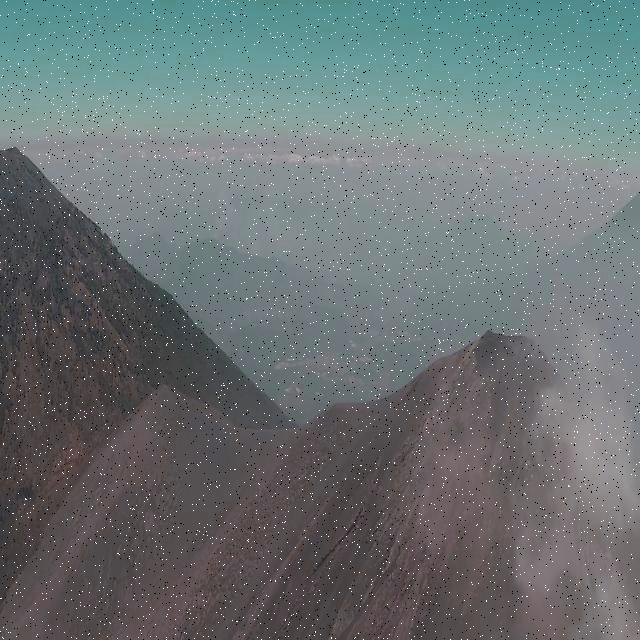Summit: (346, 321, 640, 633)
